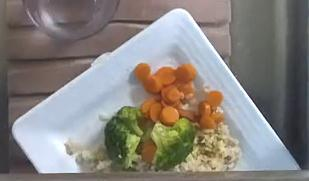broccoli: (105, 107, 143, 169), (151, 118, 196, 170)
carrots: (134, 62, 194, 125), (199, 91, 225, 129), (141, 140, 157, 163)
rice: (174, 123, 239, 171)
